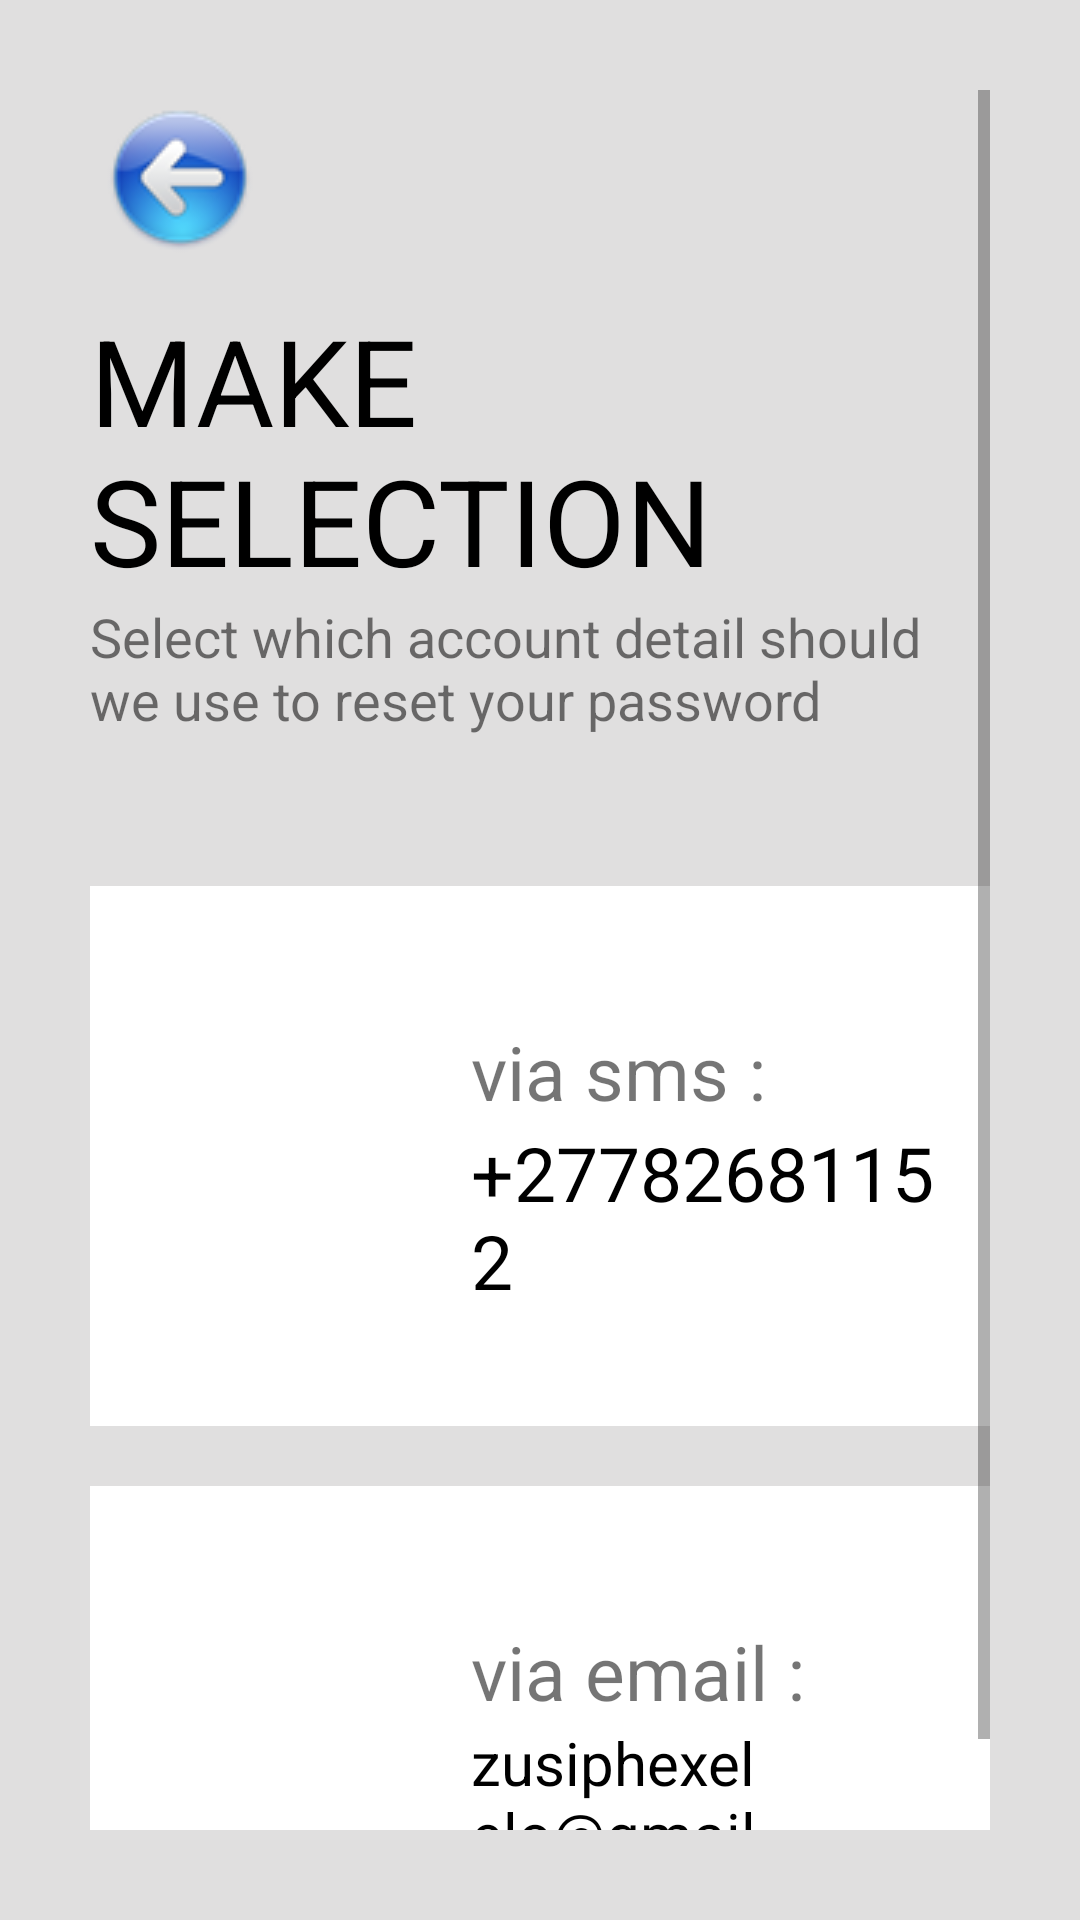

Icon click points for this 1080px x 1920px phone screenshot, format (x=x, y=y):
backicon: (x=180, y=179)
